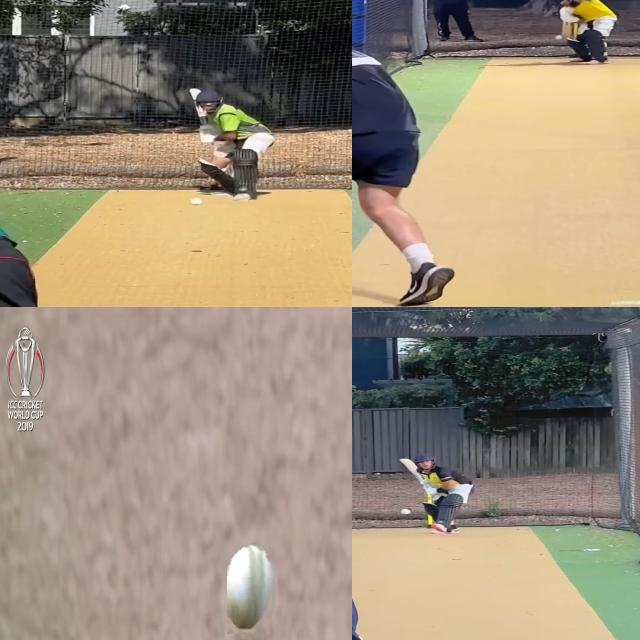Cricket ball: (227, 536, 279, 634), (189, 197, 204, 206), (398, 508, 414, 515), (554, 36, 564, 42)
